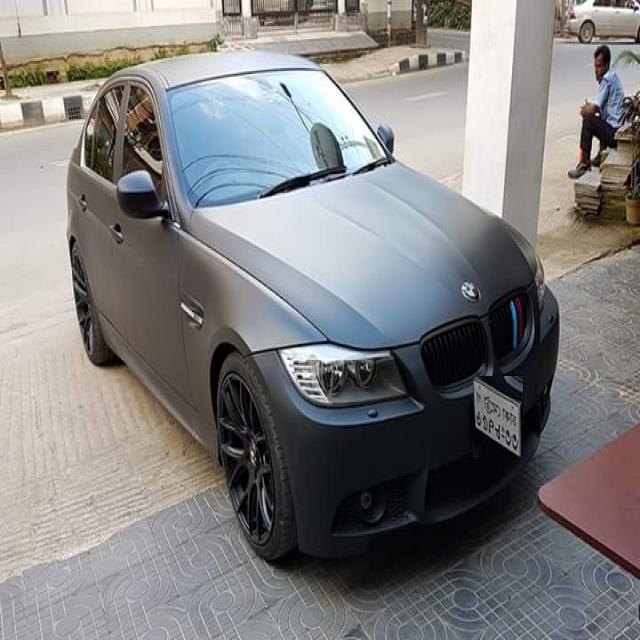numberplate: (473, 376, 523, 457)
